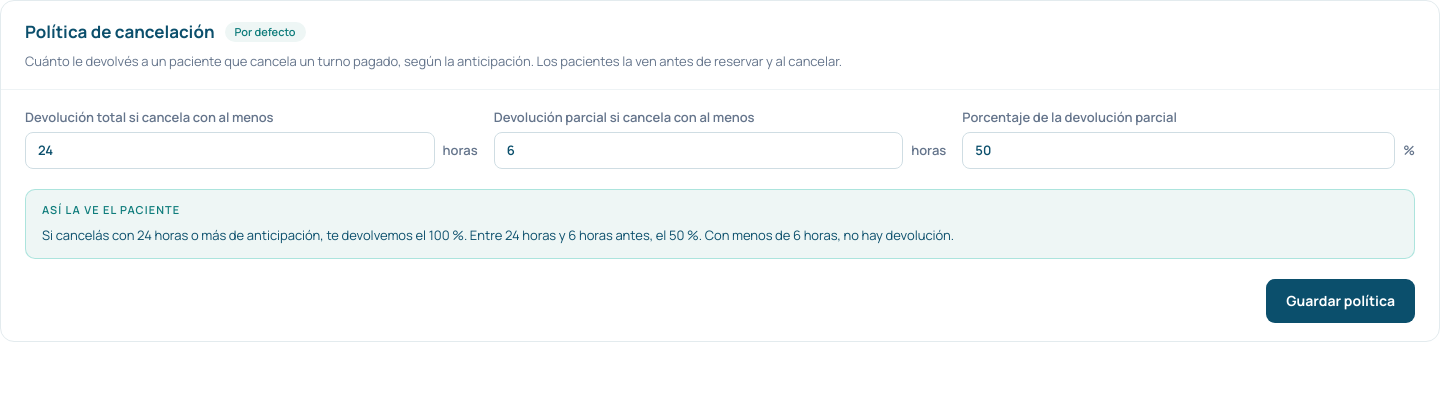
Test case: CancellationPolicyForm › un campo vacío no se guarda como cero
Clear the number field labelled "Devolución total si cancela con al menos horas" at (230, 151), box [25,132,434,169]
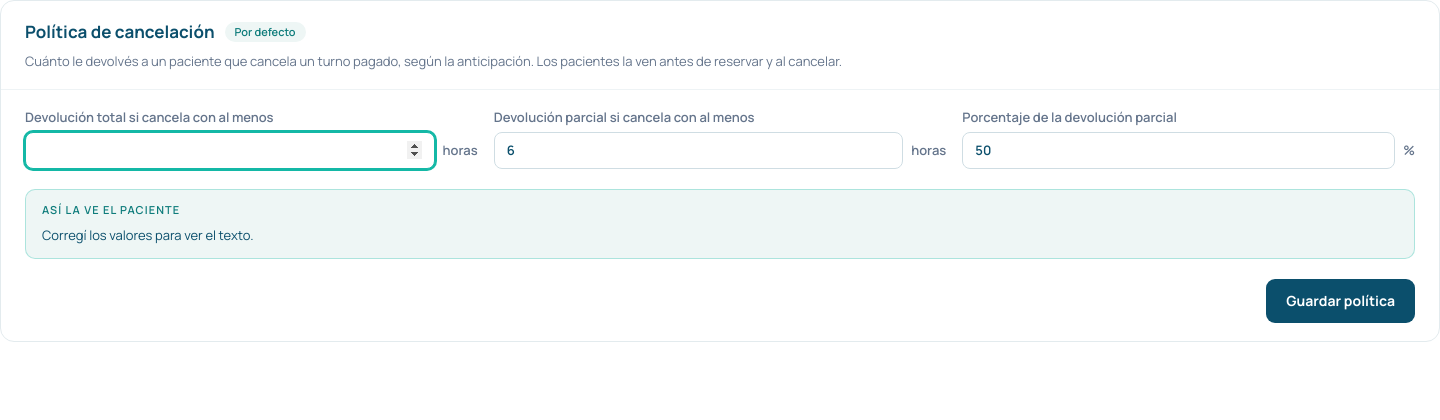
Click the button "Guardar política" at (1341, 301), box [1266,279,1415,323]
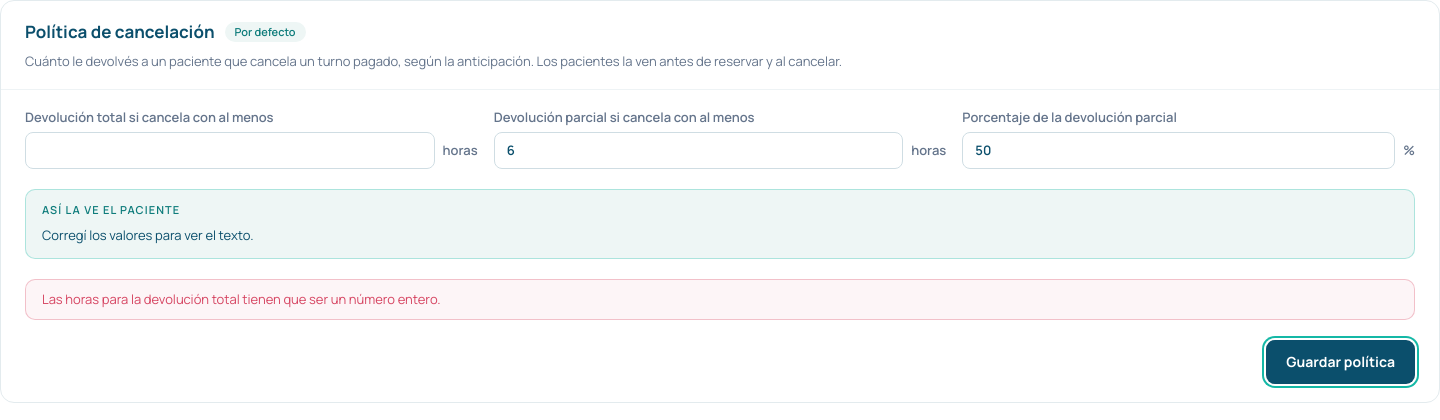
expect the message shows "entero": met, box [42,290,441,308]
